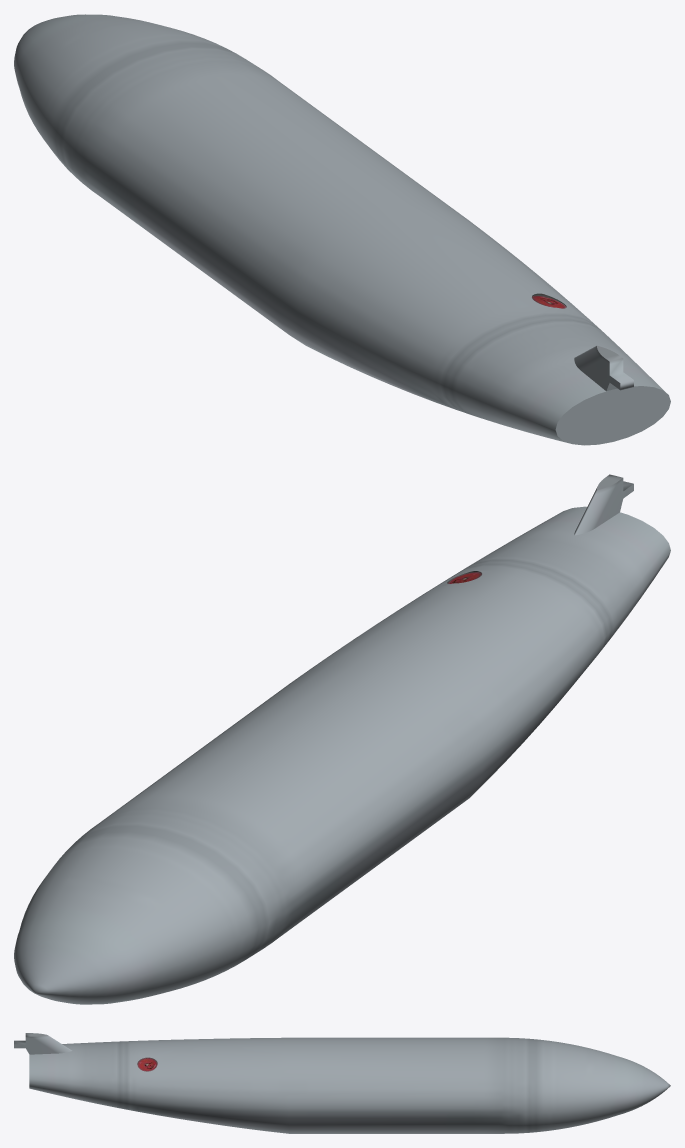
Rendered from f16ftkm.glb.
The picture shows the model from 3 angles, top to bottom: view 1: azimuth 30°, elevation 25°; view 2: azimuth 150°, elevation 25°; view 3: azimuth 270°, elevation 25°; orthographic projection. The views are drawn at different scales.
Visible parts, largest first — view 1: f16ftkm_body; view 2: f16ftkm_body; view 3: f16ftkm_body.
Boxes of the visible parts, box(x1,y1,x2,y2) form: f16ftkm_body: box(14, 14, 670, 445); f16ftkm_body: box(14, 474, 670, 1004); f16ftkm_body: box(14, 1033, 670, 1133).
Bounding box in the file's own units: 1.08 × 0.8009 × 5.3.
Materials: 1 (1 with a texture image).
